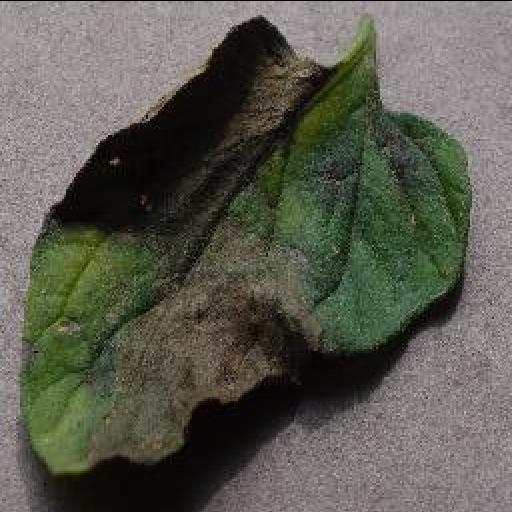disease_tomato: (20, 14, 476, 476)
